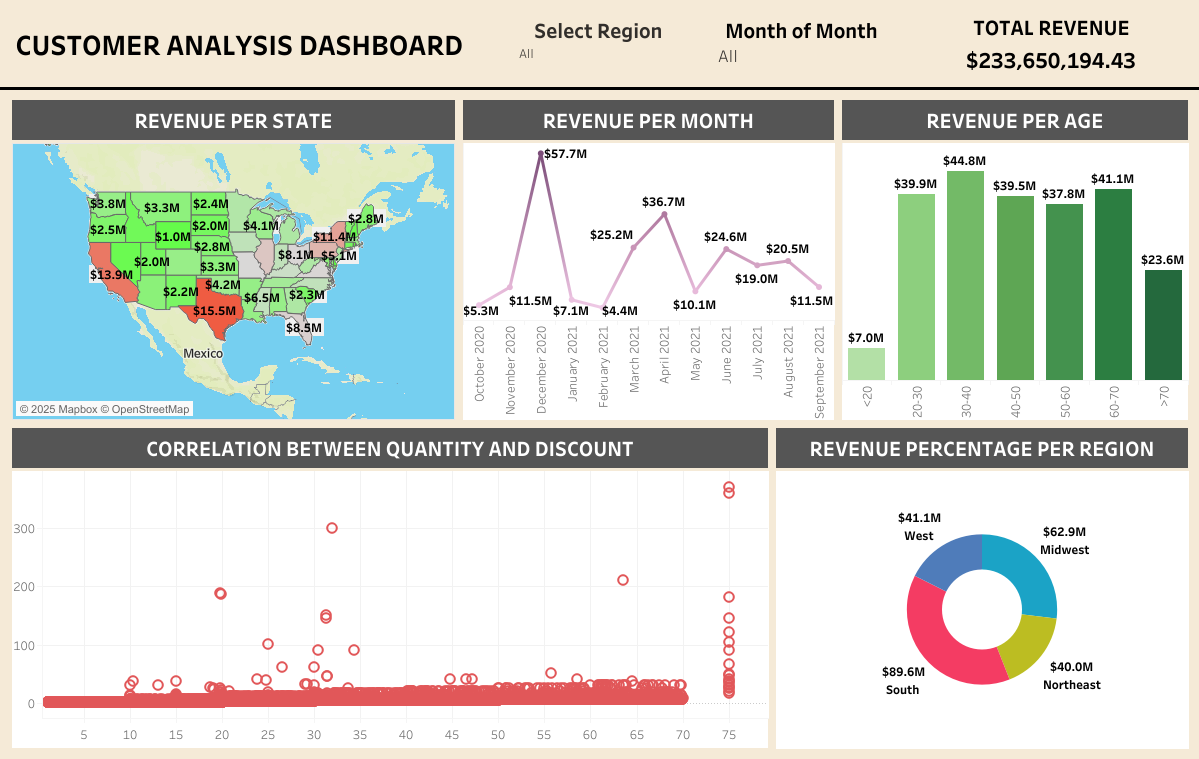

The page's visual inventory and layout, read from the dashboard file:
{"tool":"tableau","page":{"name":"Dashboard 1","canvas":[1000,1000],"units":"permille","ordinal":0},"visuals":[{"type":"text","box":[11,7.9,396.9,98.7]},{"type":"worksheet","title":"TOTAL REVENUE","mark":"Automatic","box":[774.4,9.2,203.6,82.9]},{"type":"filter","title":"REVENUE PERCENTAGE PER REGION","param":"[federated.0y8y8kk0qhi7331ck8ohc0goapzi].[none:Region:nk]","box":[430.9,19.7,135.7,138.2]},{"type":"filter","title":"REVENUE PER MONTH","param":"[federated.0y8y8kk0qhi7331ck8ohc0goapzi].[tmn:month:ok]","box":[596.3,19.7,142.5,122.4]},{"type":"worksheet","title":"REVENUE PER STATE","mark":"Automatic","box":[6.8,126.3,375.9,431.6]},{"type":"worksheet","title":"REVENUE PER MONTH","mark":"Automatic","rows":["total"],"cols":["month"],"box":[382.7,126.3,315.3,431.6]},{"type":"worksheet","title":"REVENUE PER AGE","mark":"Automatic","rows":["total"],"cols":["Age (bin)"],"box":[698,126.3,295.2,431.6]},{"type":"worksheet","title":"CORRELATION BETWEEN QUANTITY AND DISCOUNT","mark":"Automatic","rows":["qty_ordered"],"cols":["Discount_Percent"],"box":[6.8,557.9,636.7,431.6]},{"type":"worksheet","title":"REVENUE PERCENTAGE PER REGION","mark":"Pie","rows":["Calculation_774900626156634112","Calculation_774900626156634112"],"box":[643.5,557.9,349.7,431.6]}]}

Visuals, with their boxes on the dashboard's canvas, which has no fixed pixel size, in thousandths of its width and height (x1, y1, x2, y2). These are canvas units, not pixel positions in the 1199x759 screenshot, which may show the page scaled, cropped or inside an application window:
text: <region>11, 8, 408, 107</region>
"TOTAL REVENUE" worksheet: <region>774, 9, 978, 92</region>
"REVENUE PERCENTAGE PER REGION" filter: <region>431, 20, 567, 158</region>
"REVENUE PER MONTH" filter: <region>596, 20, 739, 142</region>
"REVENUE PER STATE" worksheet: <region>7, 126, 383, 558</region>
"REVENUE PER MONTH" worksheet: <region>383, 126, 698, 558</region>
"REVENUE PER AGE" worksheet: <region>698, 126, 993, 558</region>
"CORRELATION BETWEEN QUANTITY AND DISCOUNT" worksheet: <region>7, 558, 644, 990</region>
"REVENUE PERCENTAGE PER REGION" worksheet (Pie marks): <region>644, 558, 993, 990</region>
